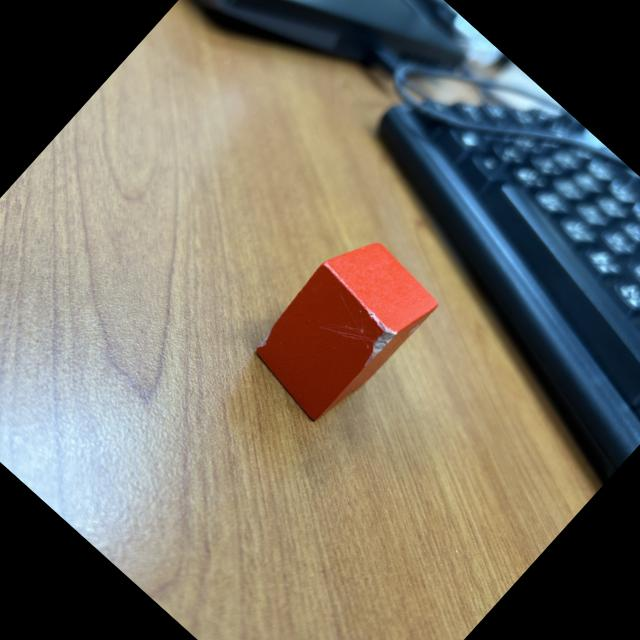broken: (238, 222, 442, 432)
